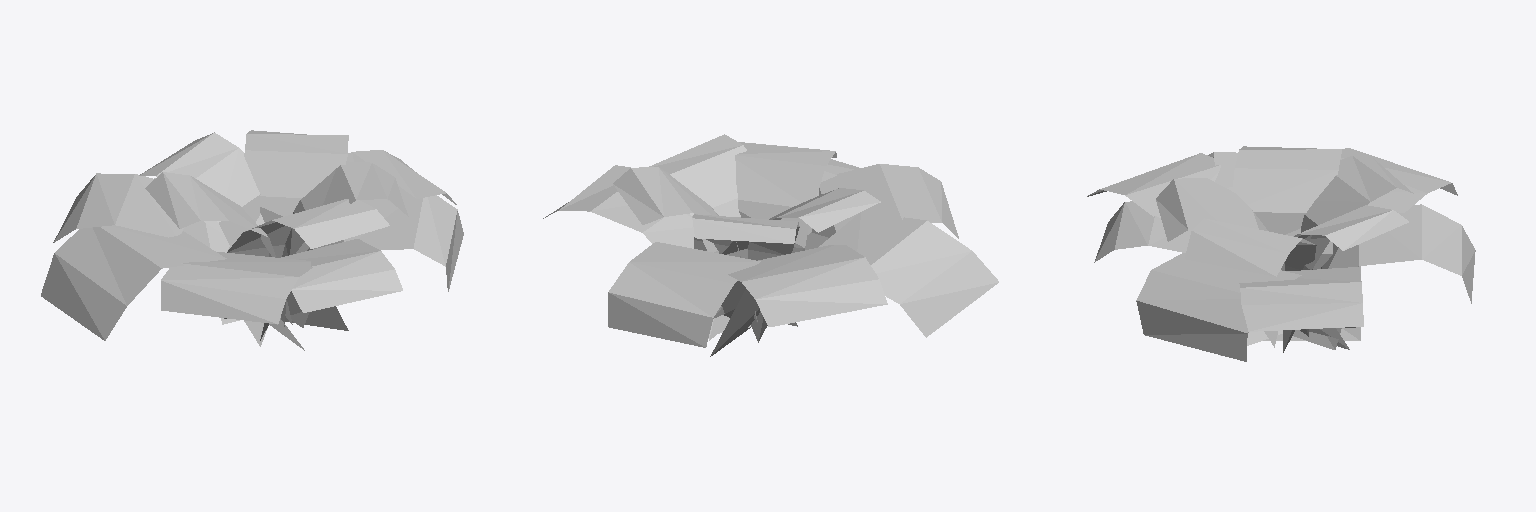
File: fern.obj
3 views of the same model, side by side, from view 1: azimuth 30°, elevation 25°; view 2: azimuth 150°, elevation 25°; view 3: azimuth 270°, elevation 25° (orthographic).
Parts seen in each view (by area): view 1: Plane; view 2: Plane; view 3: Plane.
Part boxes in pixels (x1,y1,x2,y2): Plane: (41, 130, 463, 350); Plane: (543, 134, 998, 356); Plane: (1087, 146, 1475, 361).
Size of the model in its own units: 2.02 by 0.7721 by 1.79.